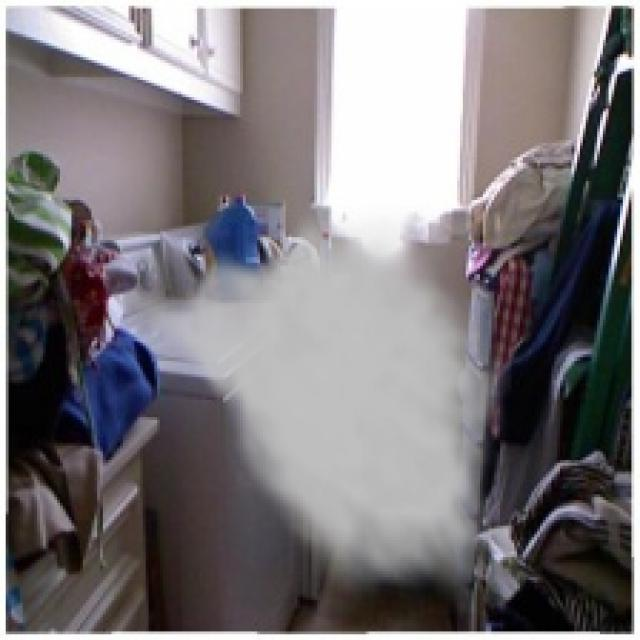Smoke: (109, 205, 512, 618)
